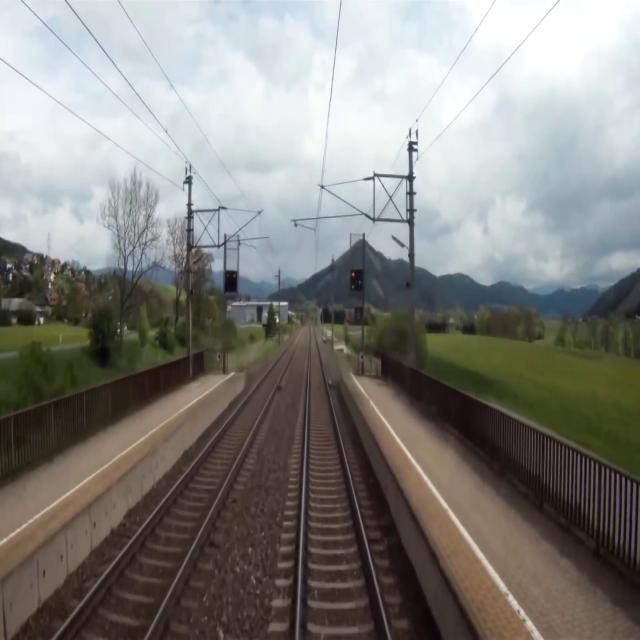rail-track: (57, 332, 300, 639), (300, 324, 386, 639)
